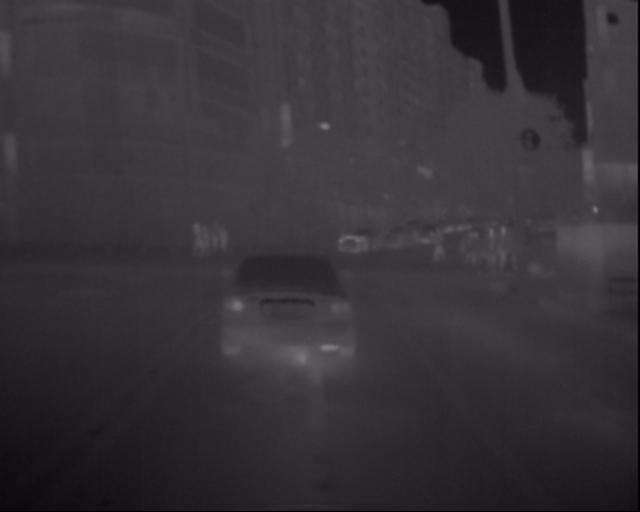person: (495, 223, 515, 276), (205, 219, 232, 258), (482, 225, 502, 276), (462, 227, 483, 268), (429, 227, 449, 266), (188, 220, 208, 258)
